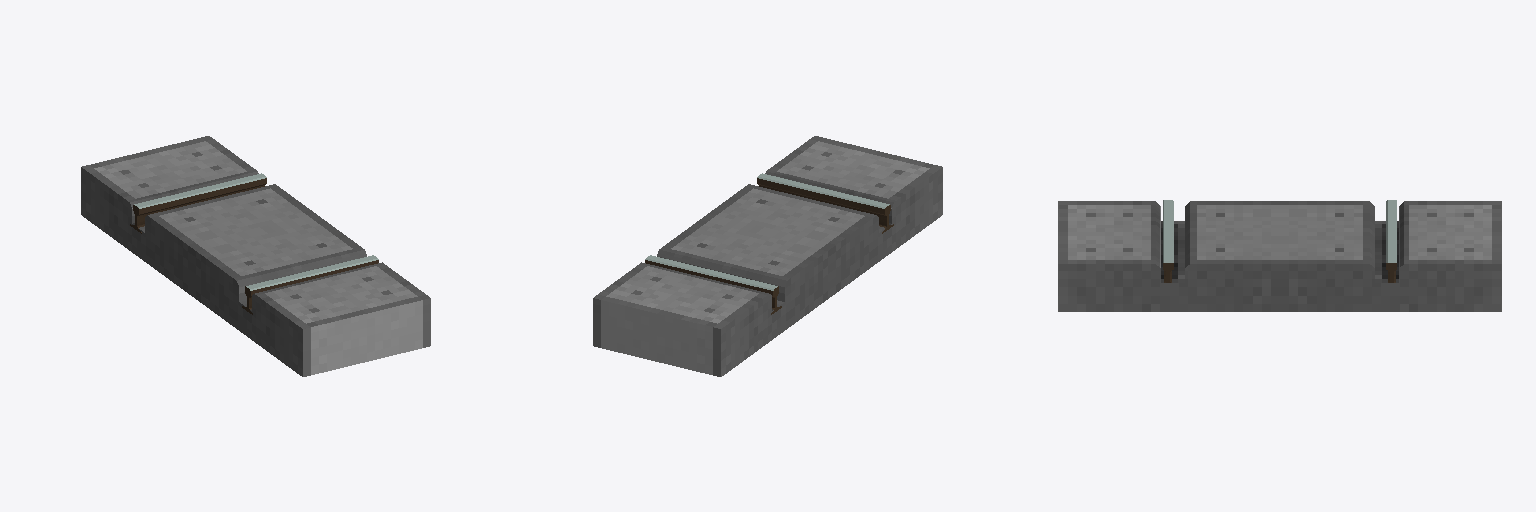
The picture shows the model from 3 angles: view 1: azimuth 30°, elevation 25°; view 2: azimuth 150°, elevation 25°; view 3: azimuth 270°, elevation 25°; orthographic projection.
Parts seen in each view (by area): view 1: RAIL_BASE.001_Cube.003, RAIL_RIGHT_Cube.010, RAIL_LEFT_Cube.001; view 2: RAIL_BASE.001_Cube.003, RAIL_LEFT_Cube.001, RAIL_RIGHT_Cube.010; view 3: RAIL_BASE.001_Cube.003, RAIL_RIGHT_Cube.010, RAIL_LEFT_Cube.001.
Boxes of the visible parts, x1=… form: RAIL_BASE.001_Cube.003: x1=81, y1=136, x2=430, y2=376; RAIL_RIGHT_Cube.010: x1=130, y1=173, x2=266, y2=233; RAIL_LEFT_Cube.001: x1=242, y1=255, x2=378, y2=314; RAIL_BASE.001_Cube.003: x1=593, y1=136, x2=942, y2=376; RAIL_LEFT_Cube.001: x1=757, y1=173, x2=893, y2=233; RAIL_RIGHT_Cube.010: x1=645, y1=255, x2=781, y2=314; RAIL_BASE.001_Cube.003: x1=1058, y1=201, x2=1501, y2=311; RAIL_RIGHT_Cube.010: x1=1386, y1=200, x2=1396, y2=282; RAIL_LEFT_Cube.001: x1=1163, y1=200, x2=1173, y2=282.
Size of the model in its own units: 1 by 0.3683 by 3.
Materials: 1 (1 with a texture image).